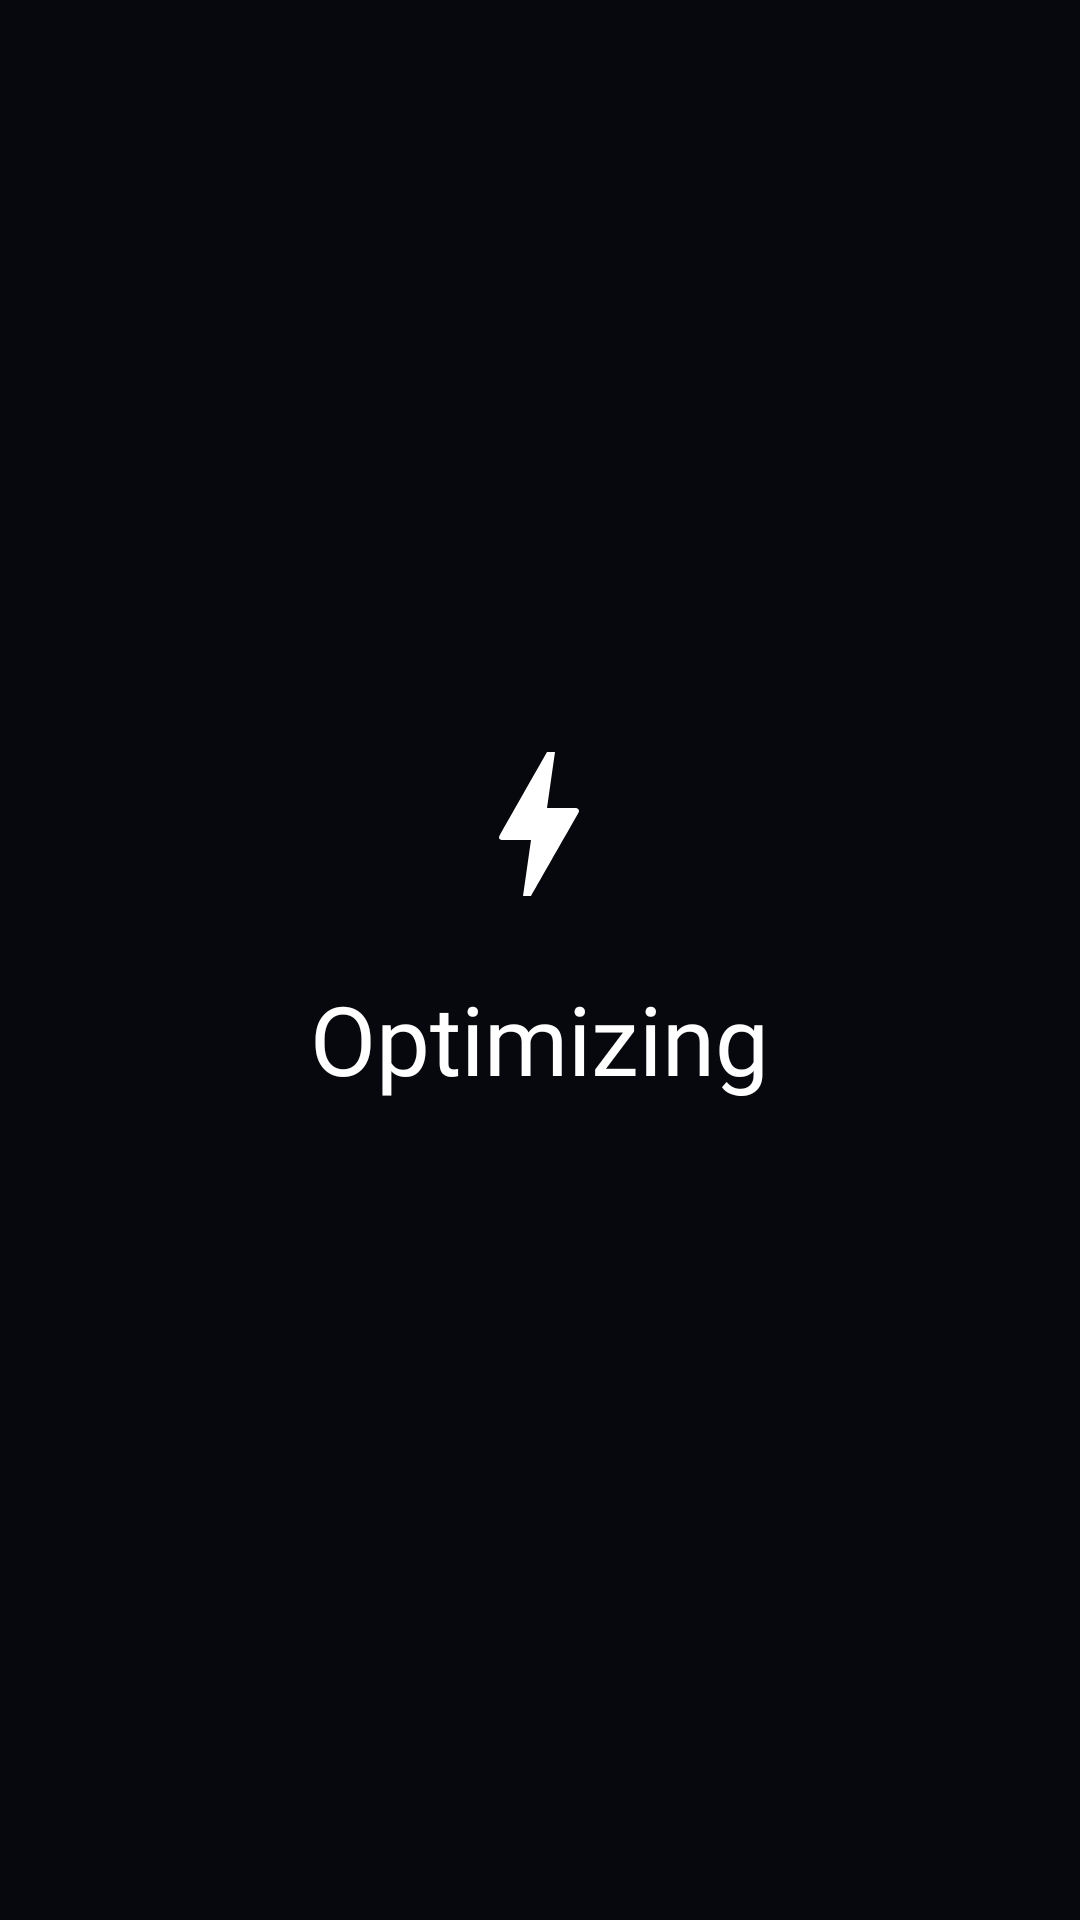

Icon bounding boxes for this 1080px×1920px phone screenshot, format {"x1": x1, "y1": y1, "x2": x2, "y2": y2}:
optimize: {"x1": 499, "y1": 752, "x2": 579, "y2": 896}
